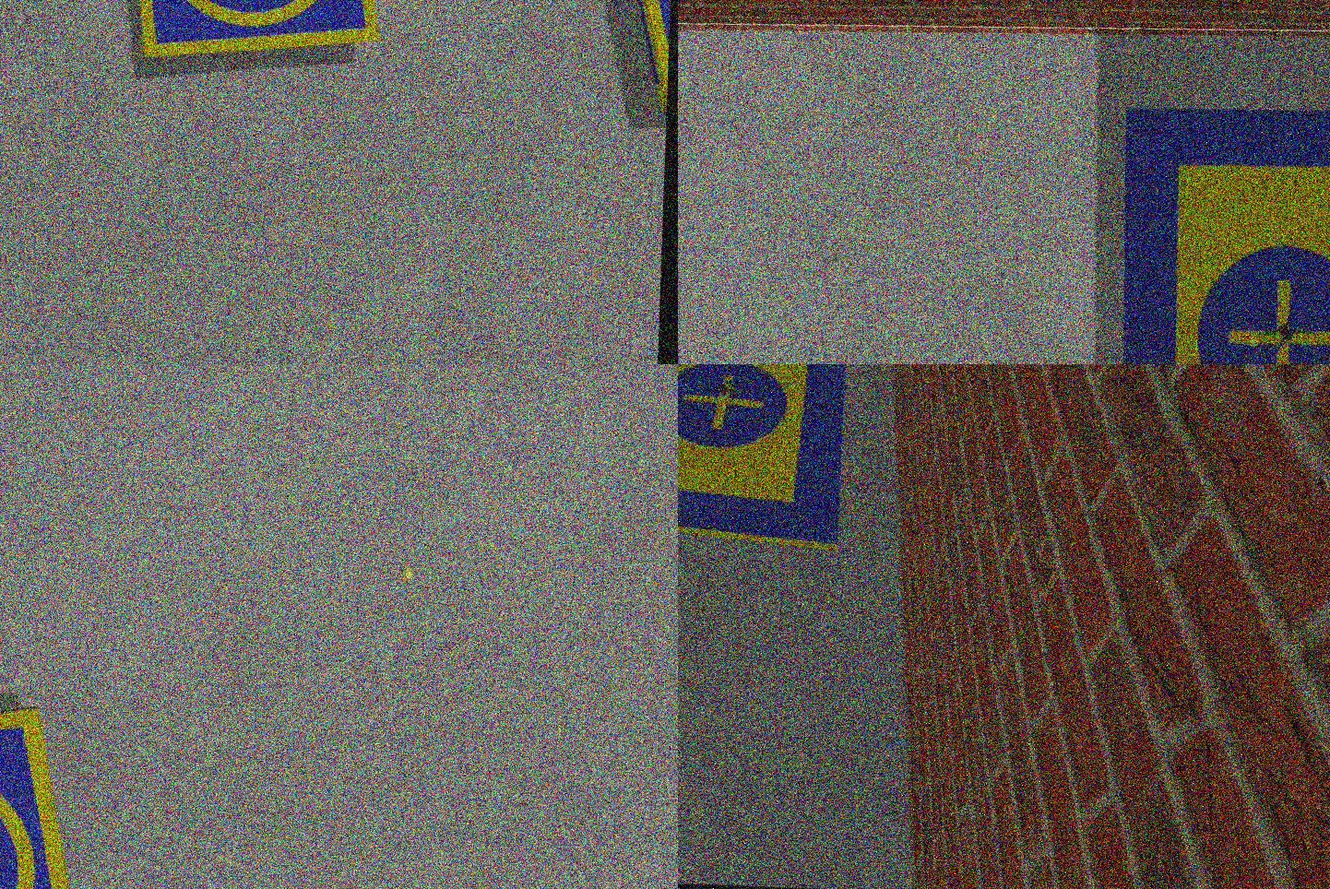large_base: (1110, 101, 1330, 365), (678, 365, 856, 556)
small_base: (116, 1, 386, 69), (610, 1, 678, 115)
